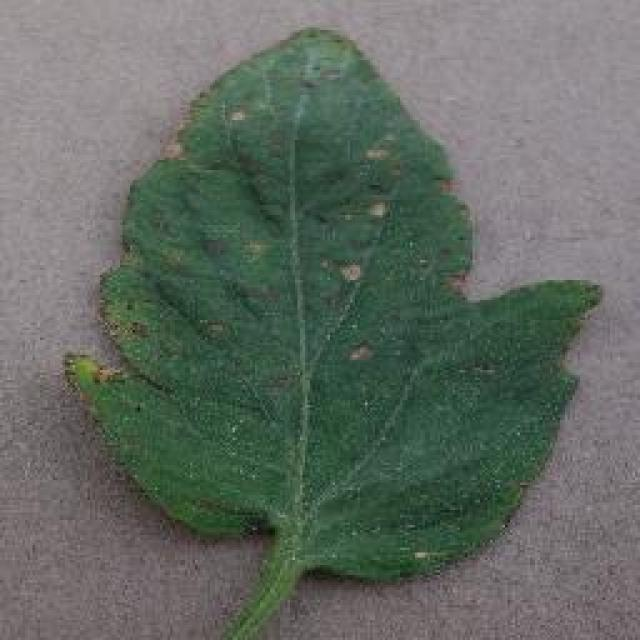Tomato bacterial spot leaf: (63, 21, 607, 586)
